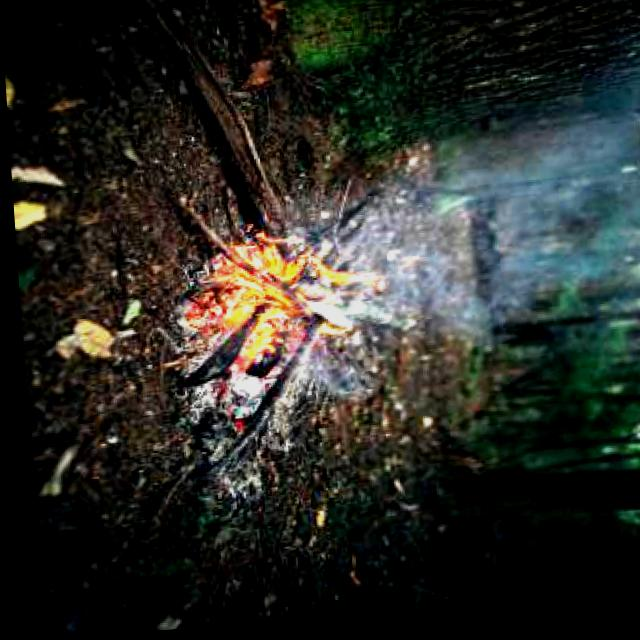Fire: (189, 238, 354, 359)
